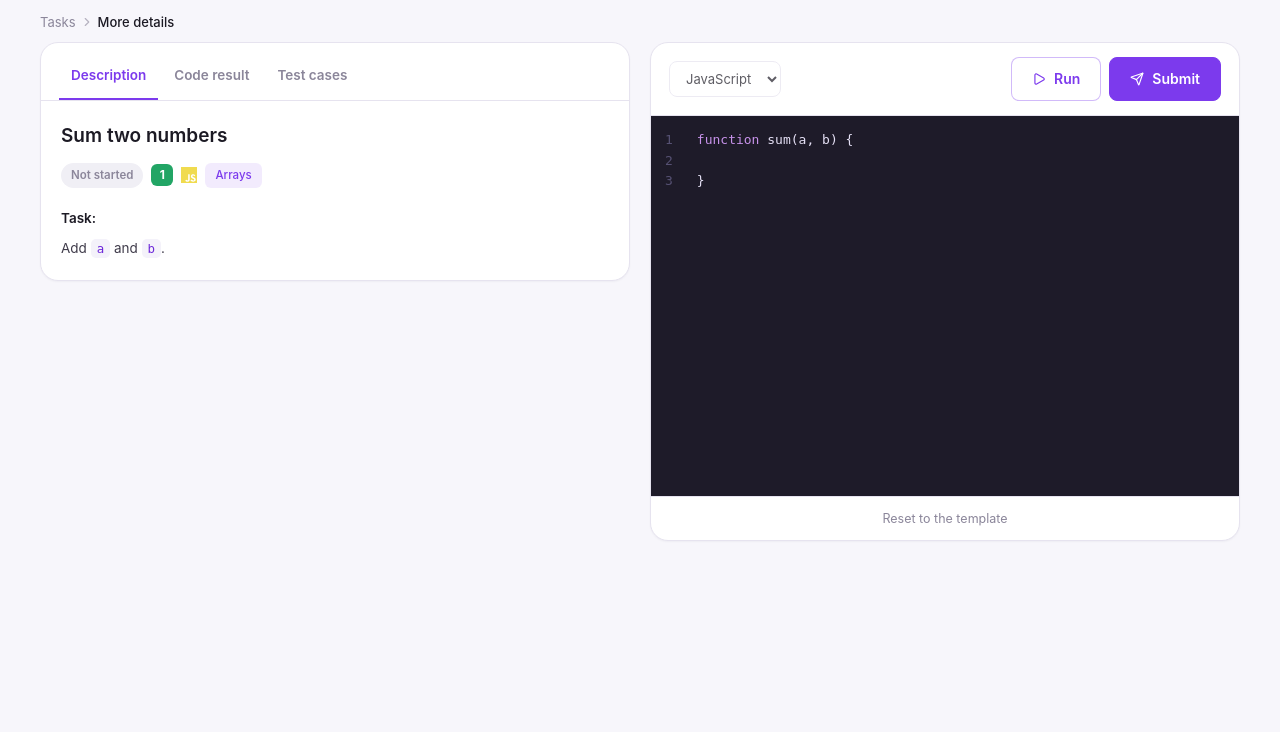
Test: the tabs › switches to the result tab, which starts idle
Click the button "Code result" at (212,79), box [162,57,261,100]
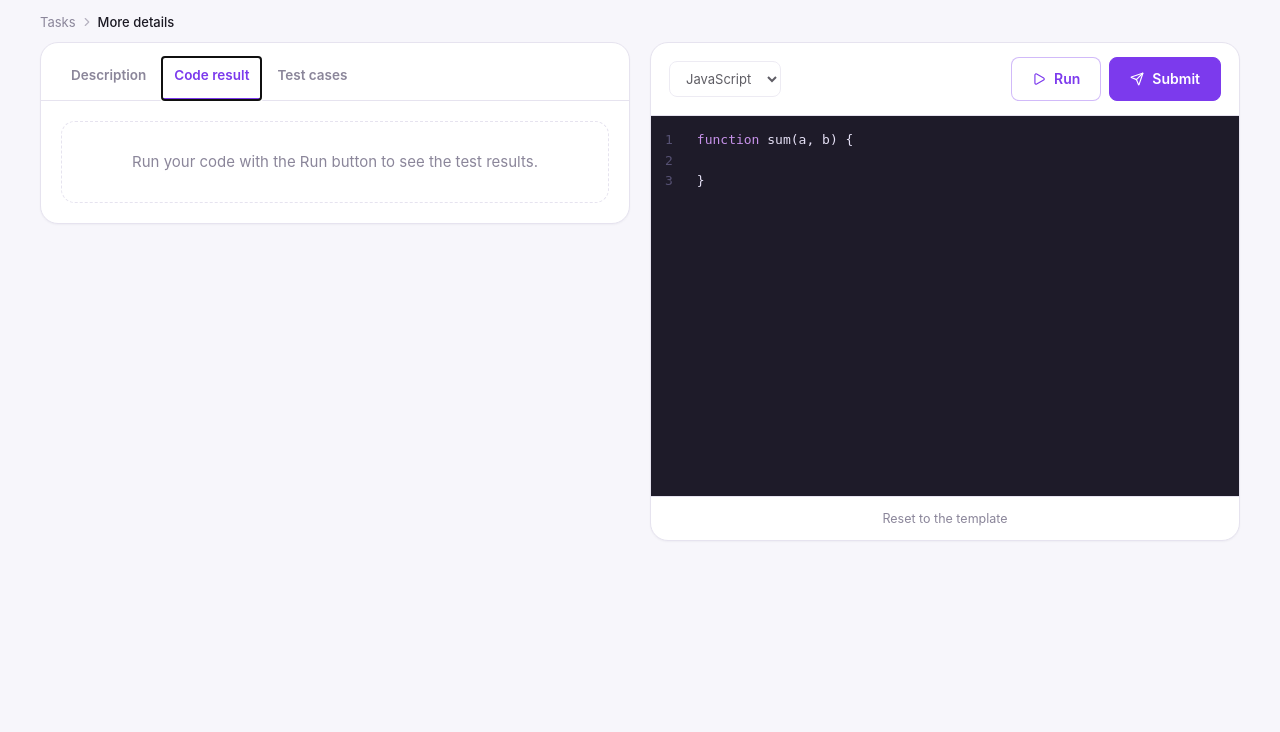
expect the text "Run your code with the Run button to see the test results." is shown: met, box [61,121,609,203]
